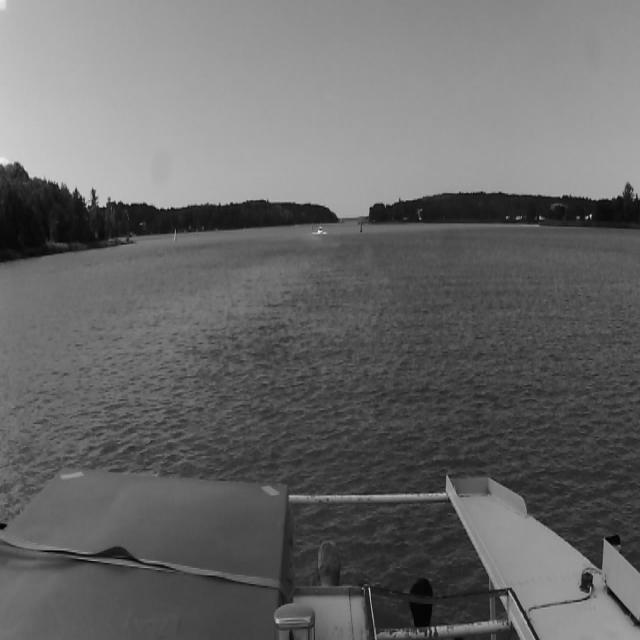buoy: (357, 218, 363, 235), (309, 220, 313, 232), (174, 229, 176, 240)
ship: (315, 223, 323, 237)
